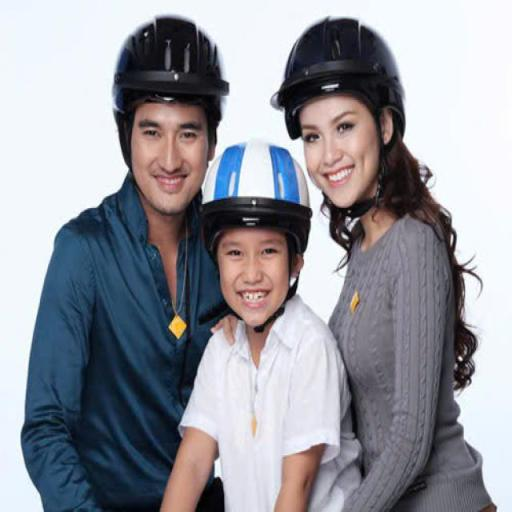with helmet: (266, 12, 417, 140), (108, 10, 238, 124), (192, 145, 320, 260)
